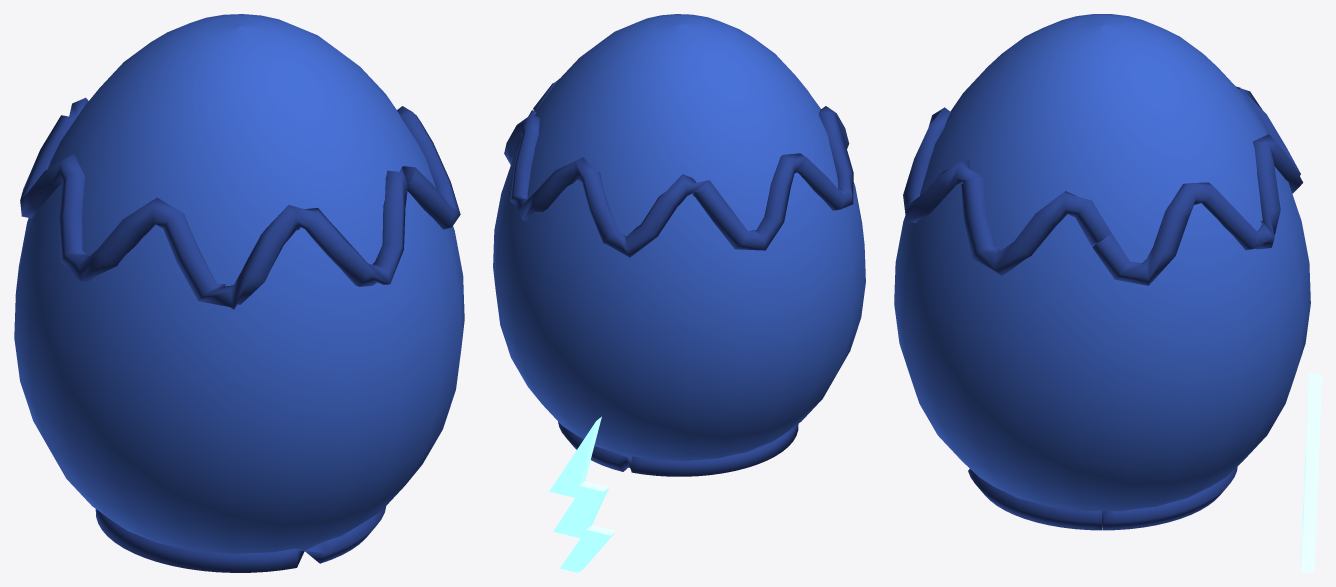
The model's file is EggStorm.glb.
3 renders of one model, left to right at view 1: azimuth 30°, elevation 25°; view 2: azimuth 150°, elevation 25°; view 3: azimuth 270°, elevation 25°, orthographic. The views are drawn at different scales.
Parts seen in each view (by area): view 1: Body; view 2: Body, Glow; view 3: Body, Glow.
Boxes of the visible parts, <box> form: Body: <box>14,14,464,572</box>; Body: <box>493,14,865,476</box>; Glow: <box>549,416,615,572</box>; Body: <box>894,14,1310,530</box>; Glow: <box>1301,373,1321,572</box>.
Size of the model in its own units: 1.89 by 2.71 by 1.96.
Materials: 2 (1 with a texture image).
